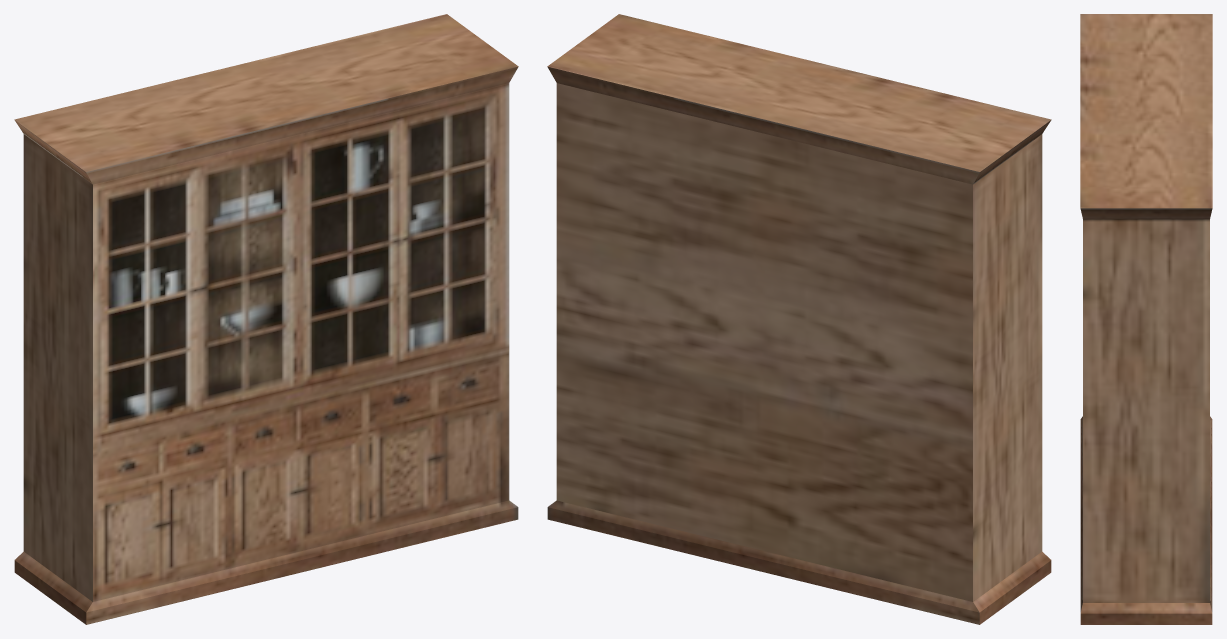
The model's file is estante_c.glb.
3 renders of one model, left to right at view 1: azimuth 30°, elevation 25°; view 2: azimuth 150°, elevation 25°; view 3: azimuth 270°, elevation 25°, orthographic. The views are drawn at different scales.
Visible parts, largest first — view 1: estante_c; view 2: estante_c; view 3: estante_c.
Part boxes in pixels (bbox=[...]): estante_c: bbox=[14, 14, 518, 624]; estante_c: bbox=[547, 14, 1051, 624]; estante_c: bbox=[1080, 14, 1212, 624].
Bounding box in the file's own units: 1.92 × 1.92 × 0.552.
Materials: 1 (1 with a texture image).
